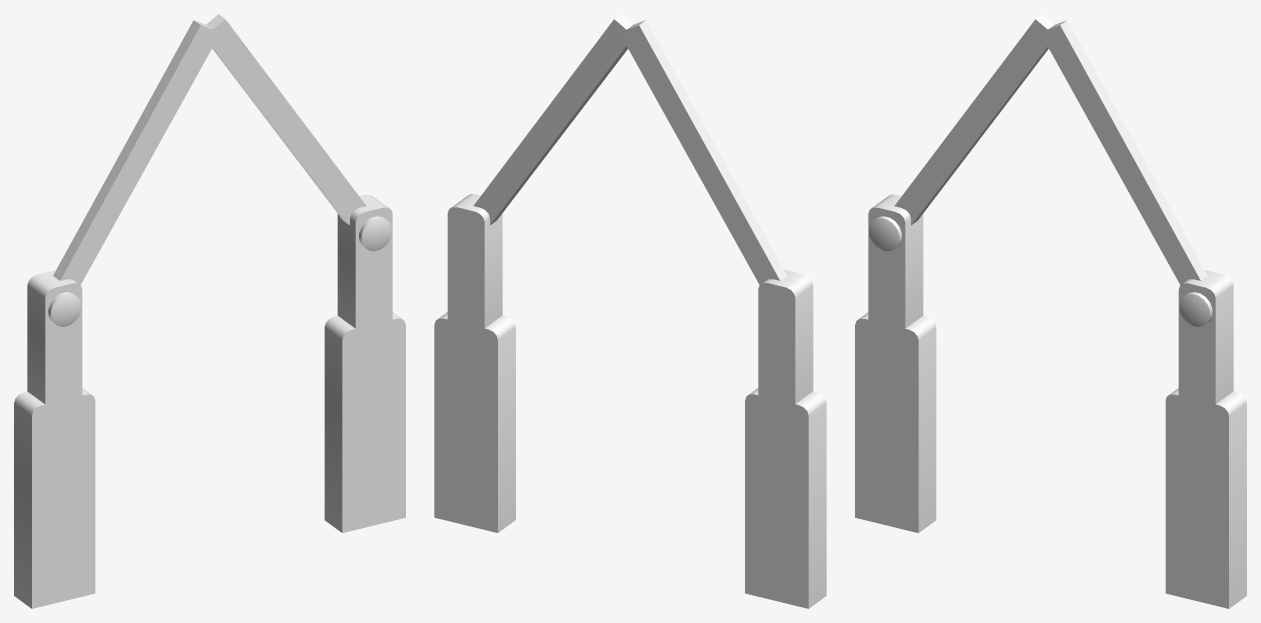
File: diff_7.1.fbx
3 views of the same model, side by side, from view 1: azimuth 30°, elevation 25°; view 2: azimuth 150°, elevation 25°; view 3: azimuth 330°, elevation 25° (orthographic).
Visible parts, largest first — view 1: Cube.011; view 2: Cube.011; view 3: Cube.011.
Boxes of the visible parts, left/top/right/bottom form: Cube.011: left=14, top=14, right=405, bottom=608; Cube.011: left=434, top=14, right=826, bottom=608; Cube.011: left=855, top=14, right=1246, bottom=608.
Size of the model in its own units: 1709 by 2345 by 171.
